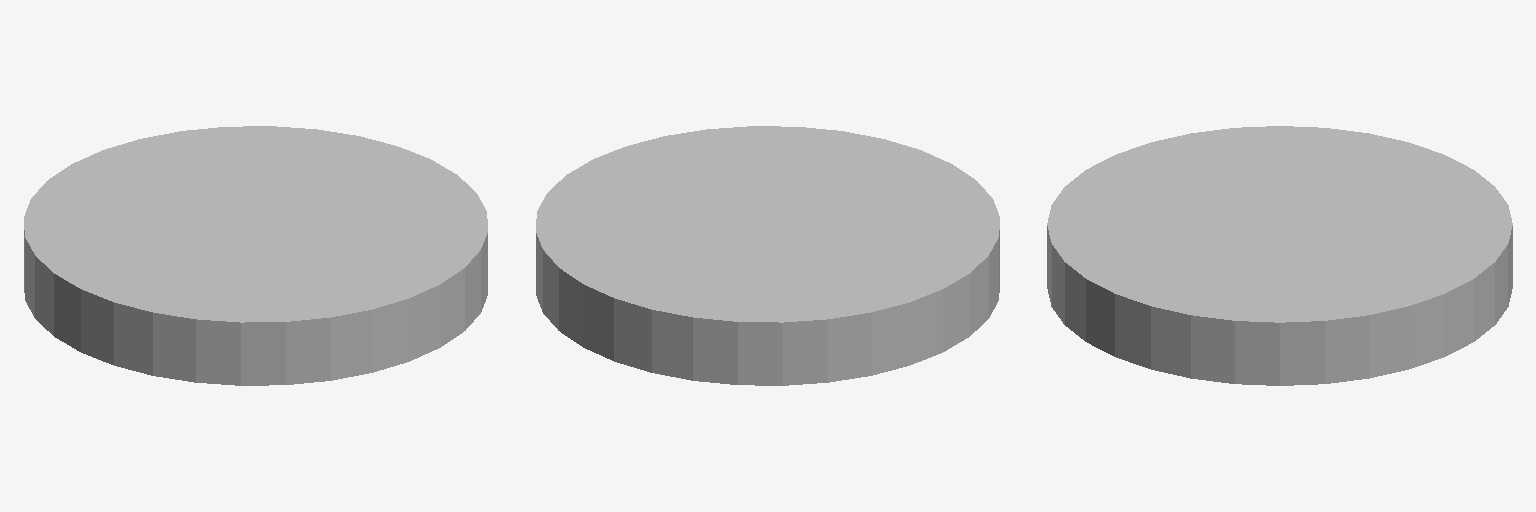
Rendered from coin.obj.
The picture shows the model from 3 angles: view 1: azimuth 30°, elevation 25°; view 2: azimuth 150°, elevation 25°; view 3: azimuth 270°, elevation 25°; orthographic projection.
Visible parts, largest first — view 1: Cylinder; view 2: Cylinder; view 3: Cylinder.
Boxes of the visible parts, x1,y1,x2,y2 form: Cylinder: [24, 126, 487, 385]; Cylinder: [536, 126, 999, 385]; Cylinder: [1047, 126, 1512, 385].
Bounding box in the file's own units: 1 × 0.15 × 1.